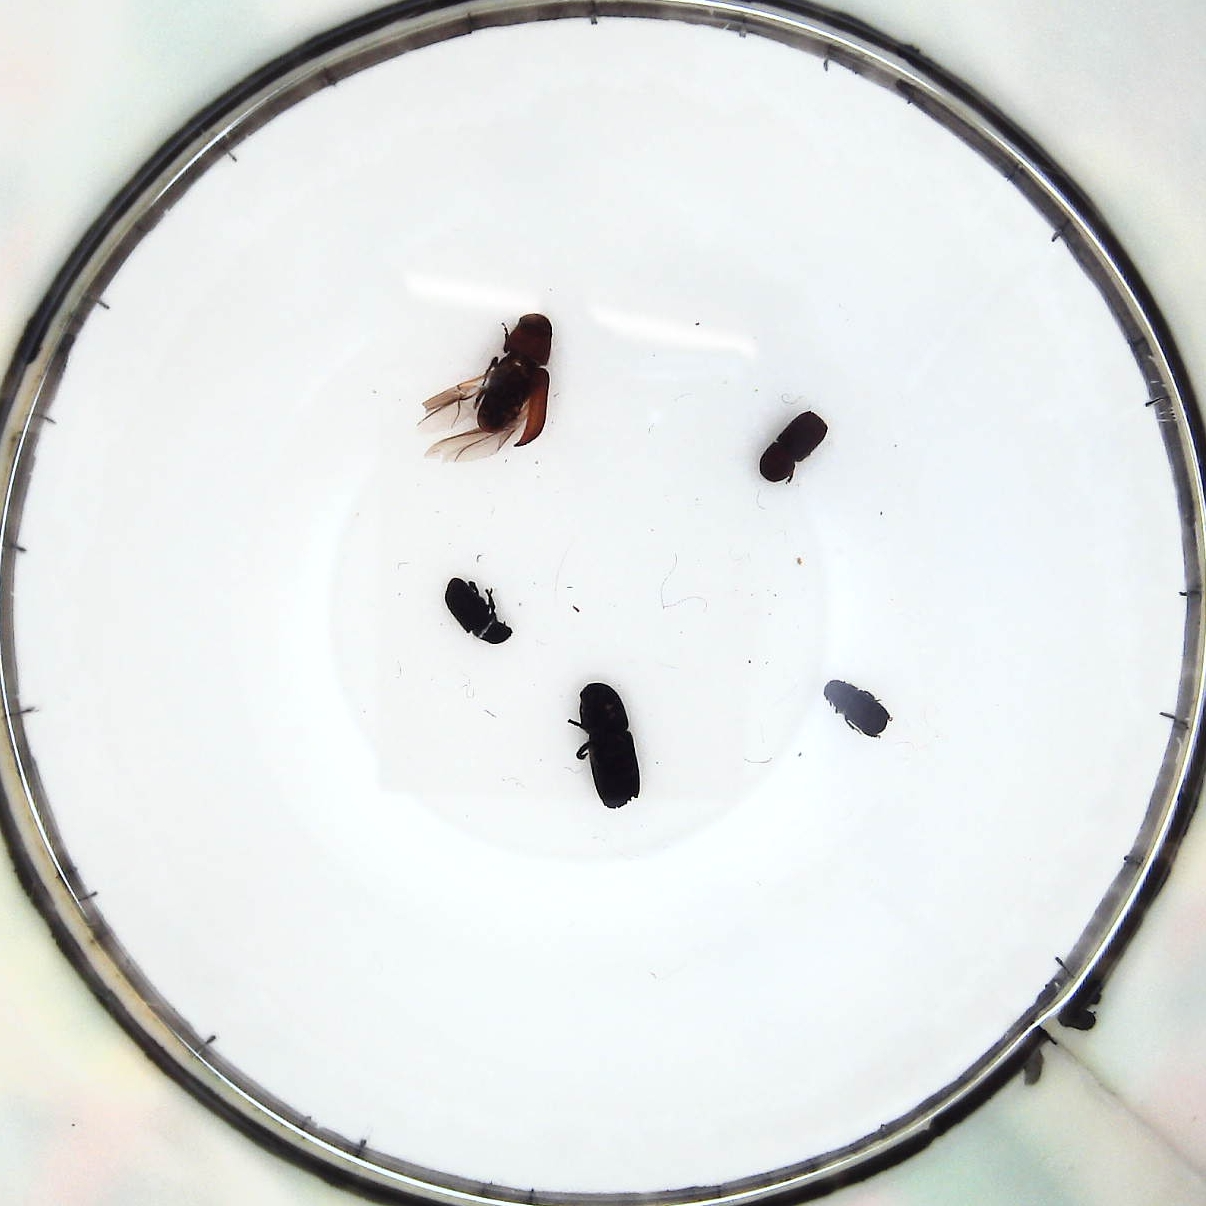Boerner: (571, 683, 646, 814)
Leconte: (422, 314, 554, 461)
Linnaeus: (757, 408, 829, 483)
armandi: (819, 671, 893, 744), (446, 573, 507, 649)
